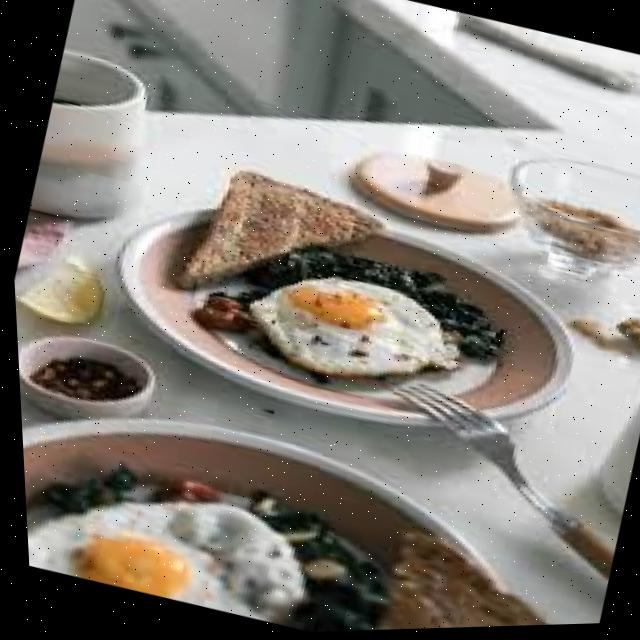Bread: (172, 172, 379, 289), (372, 535, 543, 632)
Egg: (22, 503, 297, 623), (247, 279, 452, 376)
